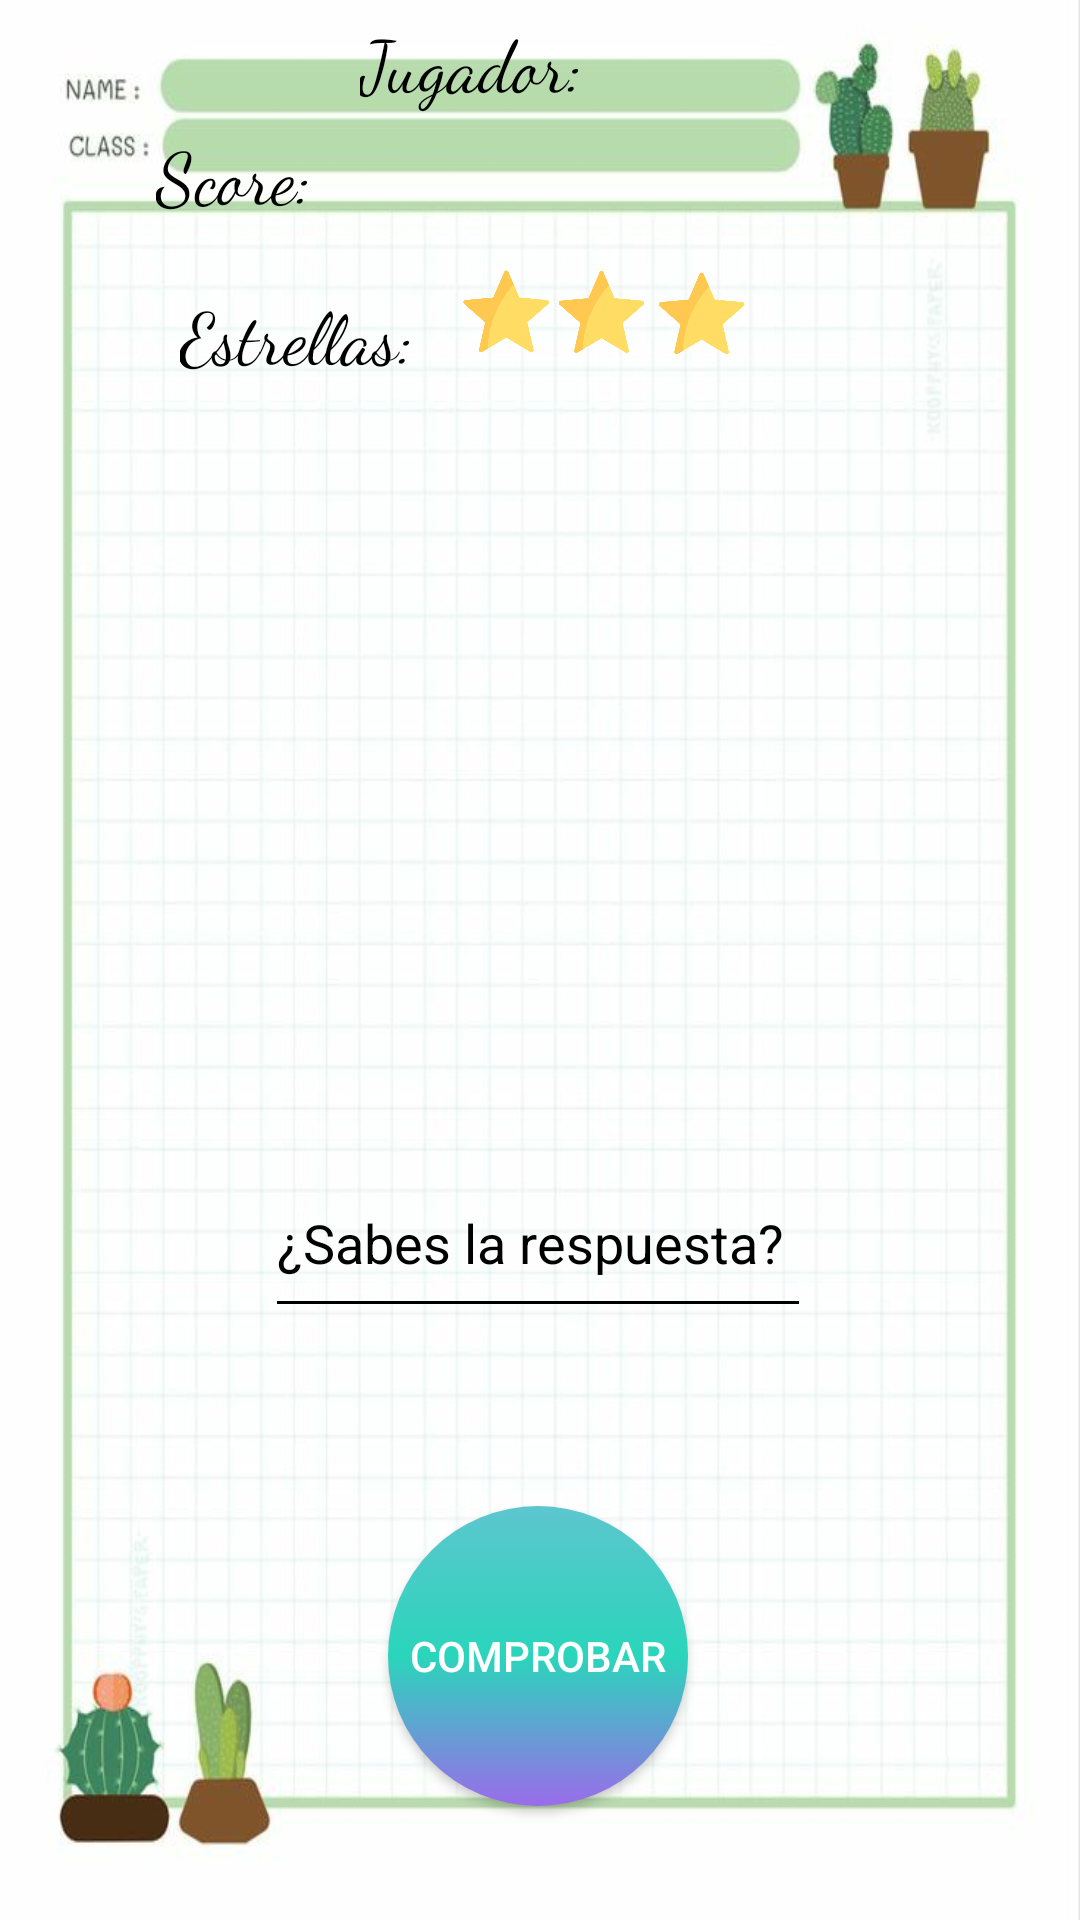

Screen size 1080px×1920px. Icon name, then its center in pixels as [x,y]:
vida: [604,312]
